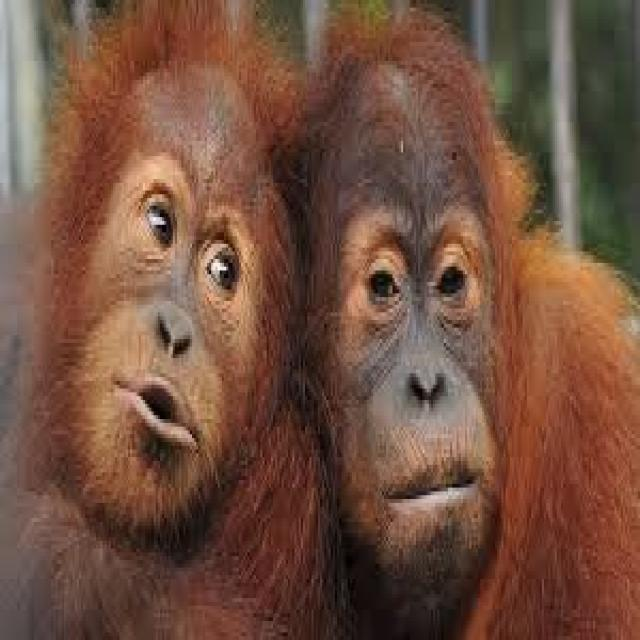Orangutan: (307, 0, 640, 640), (0, 15, 312, 640)
